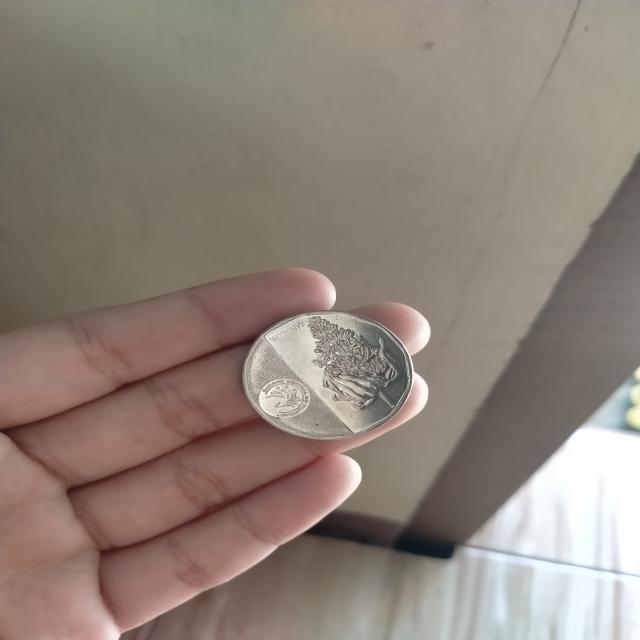10_New_Back: (296, 310, 412, 422)
